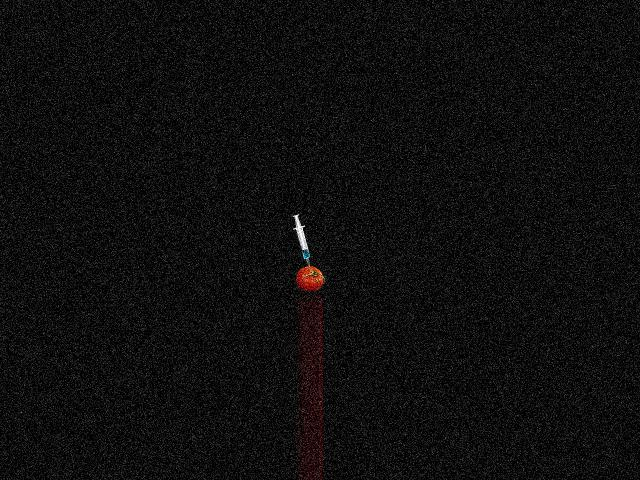tomato: (295, 266, 323, 291)
